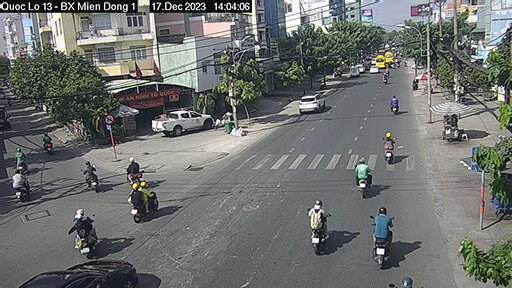car: (151, 110, 214, 137), (299, 93, 328, 116), (367, 65, 381, 75)
motorbike: (366, 205, 398, 269), (303, 200, 336, 255), (120, 181, 162, 224), (66, 207, 97, 259), (349, 156, 374, 200), (381, 125, 400, 167), (123, 160, 149, 190), (11, 168, 32, 202), (82, 163, 104, 194), (39, 134, 59, 156), (389, 94, 400, 120)
